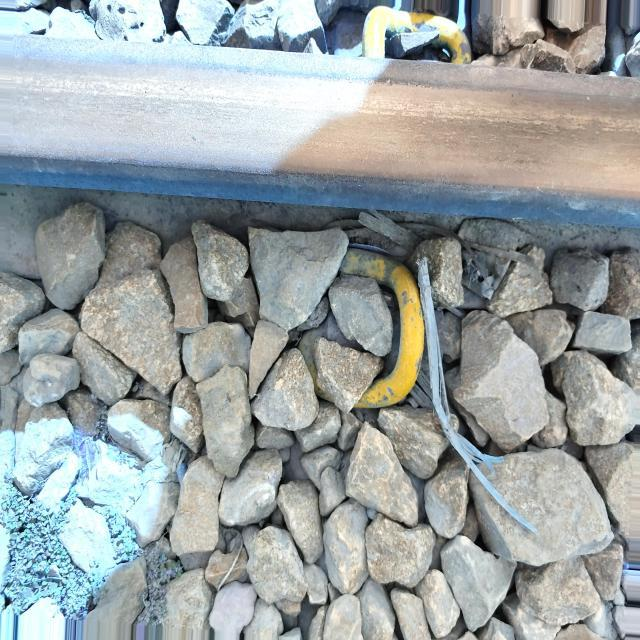Good Fasteners: (300, 246, 424, 408), (327, 6, 471, 63)
